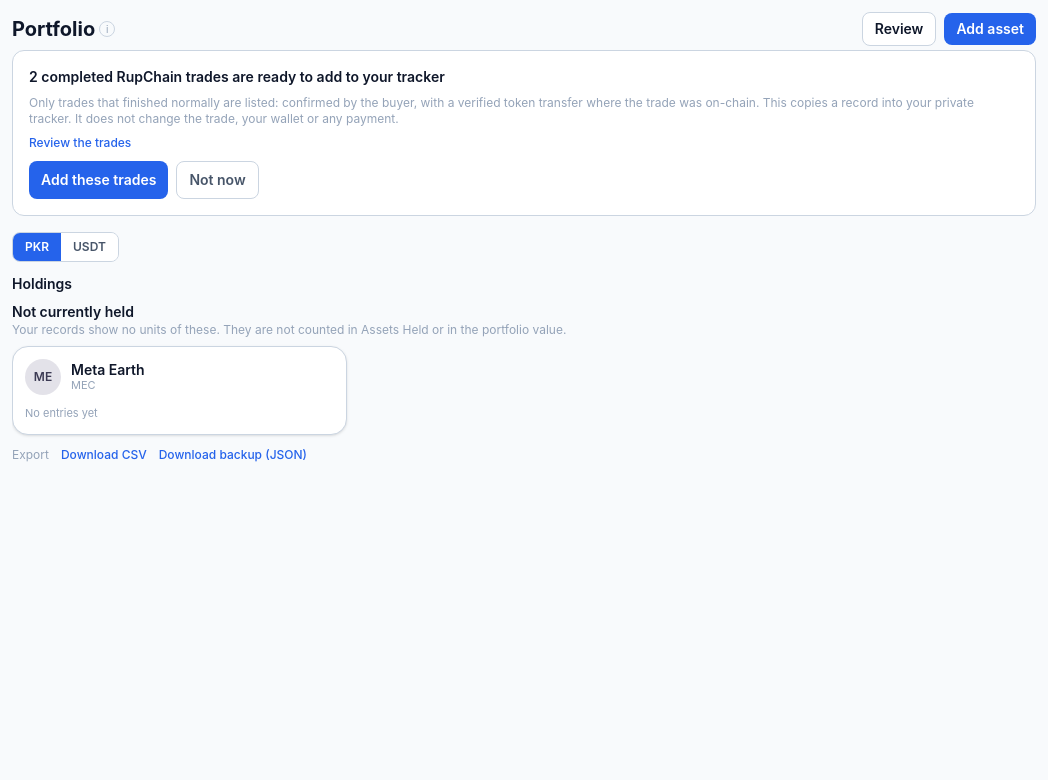
Test case: first time: asks before adding anything › shows a preview and does NOT import until the user says yes
The width and height of the screenshot is (1048, 780).
Expected: the text "2 completed RupChain trades are ready to add to your tracker" is shown, [29,68,445,85]
Expected: the text "does not change the trade, your wallet or any payment" is shown, [29,95,974,126]
Click the button "Review the trades": (80, 143) [29,135,131,151]
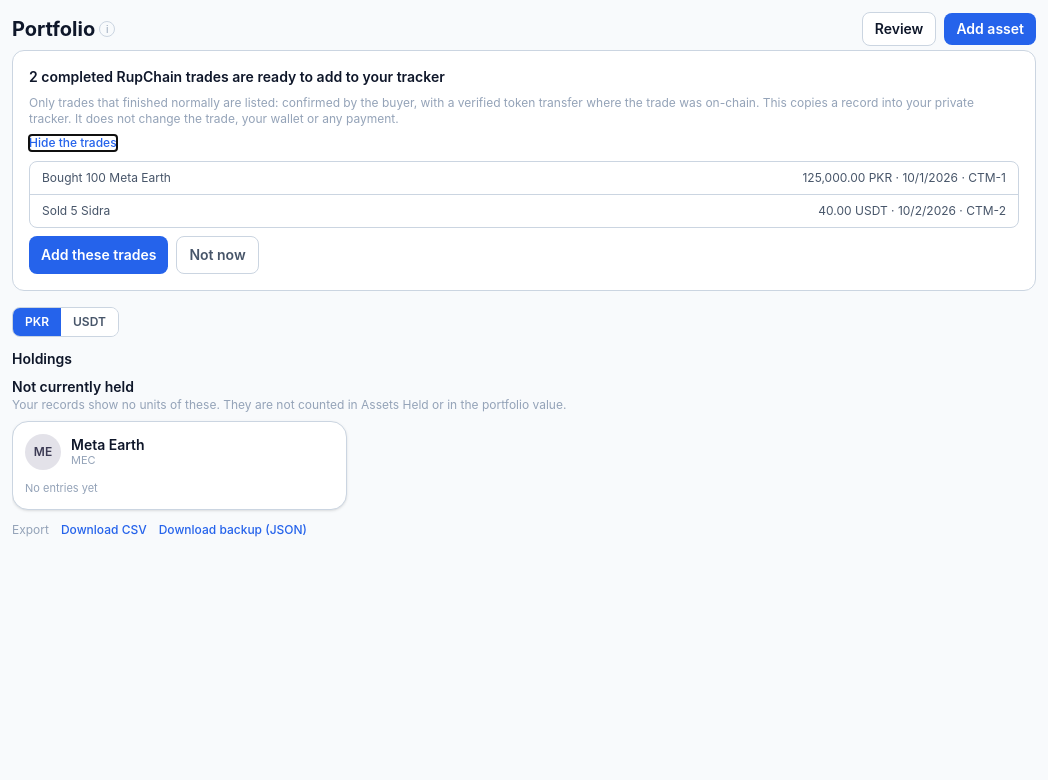
Result: the text "Bought 100 Meta Earth" is shown at [42,170,171,186]
Result: the text "Sold 5 Sidra" is shown at [42,203,110,219]
Result: the text "40.00 USDT · 10/2/2026 · CTM-2" is shown at [818,203,1006,219]
